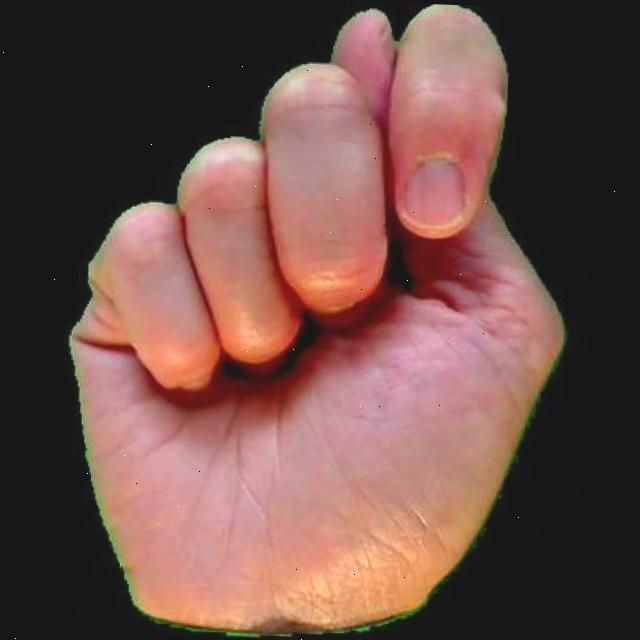t: (37, 0, 598, 640)
